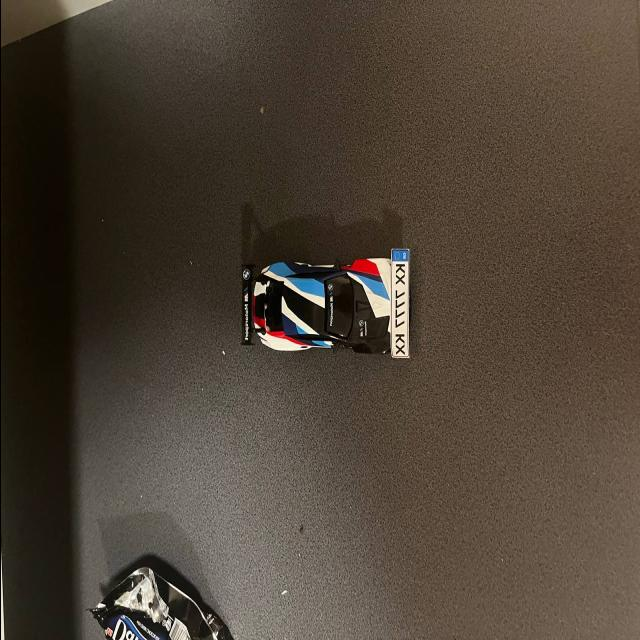cars: (234, 254, 416, 366)
